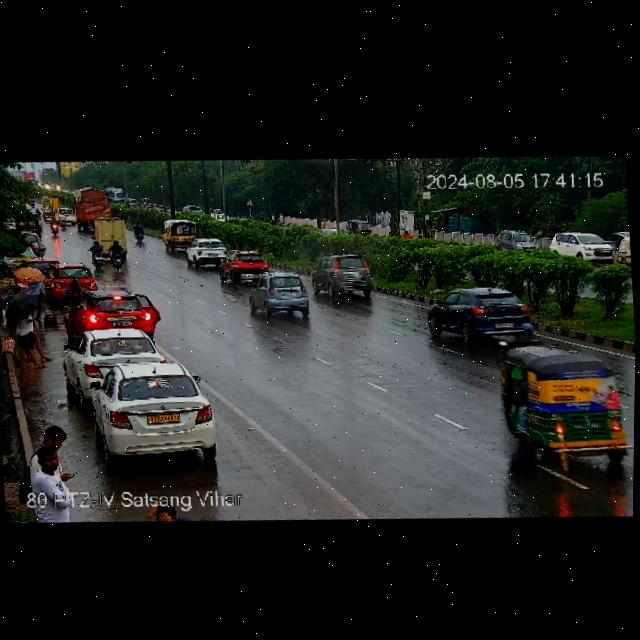car: (492, 335, 629, 473), (86, 355, 217, 467), (424, 278, 540, 352), (64, 322, 161, 394), (73, 283, 161, 341), (247, 268, 315, 322), (312, 251, 378, 303), (544, 227, 619, 271), (220, 250, 275, 287), (494, 225, 551, 254), (183, 235, 232, 267), (161, 218, 196, 252), (94, 212, 128, 243), (612, 226, 632, 267)
motorcycle: (108, 236, 126, 270), (128, 217, 149, 244), (90, 240, 106, 270), (50, 215, 61, 236)
person: (13, 308, 46, 374), (29, 442, 74, 490), (36, 423, 71, 447), (23, 271, 48, 299)
truck: (73, 182, 111, 230)
